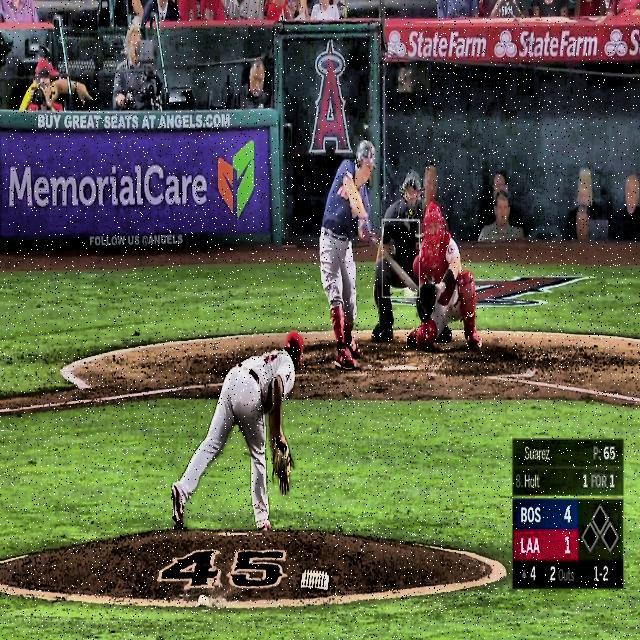baseball: (406, 288, 412, 300)
